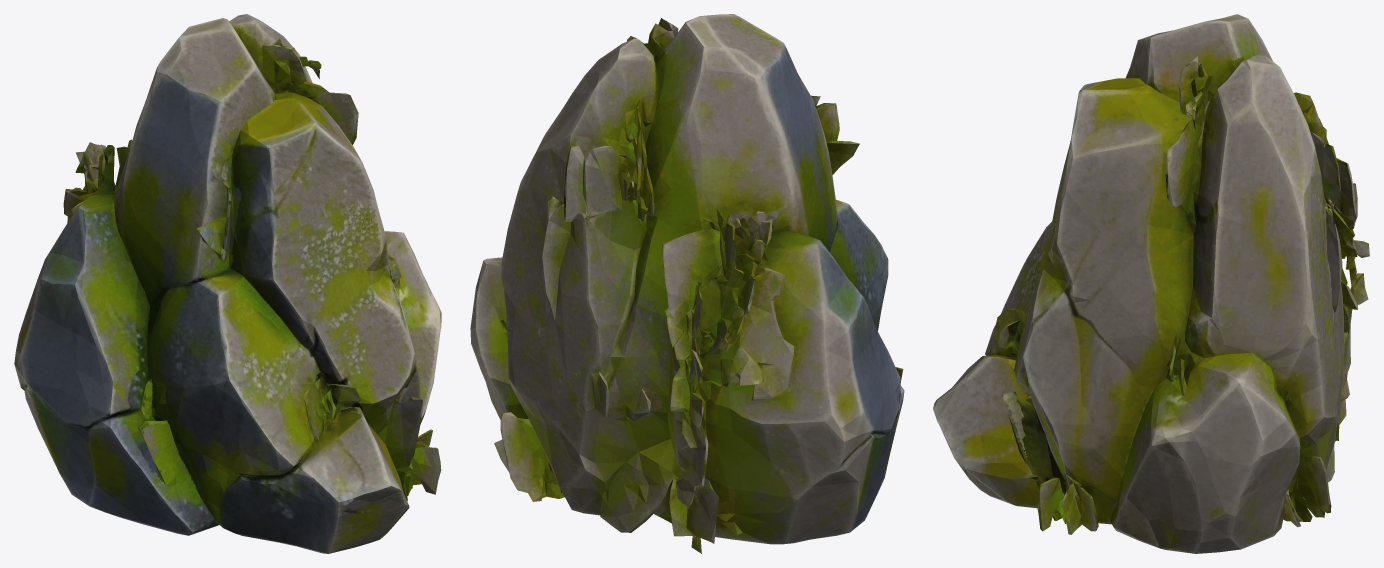
The model's file is crystal_cluster_13.glb.
The picture shows the model from 3 angles, left to right: view 1: azimuth 30°, elevation 25°; view 2: azimuth 150°, elevation 25°; view 3: azimuth 270°, elevation 25°; orthographic projection. The views are drawn at different scales.
Size of the model in its own units: 1.75 by 1.97 by 1.72.
Materials: 1 (1 with a texture image).
